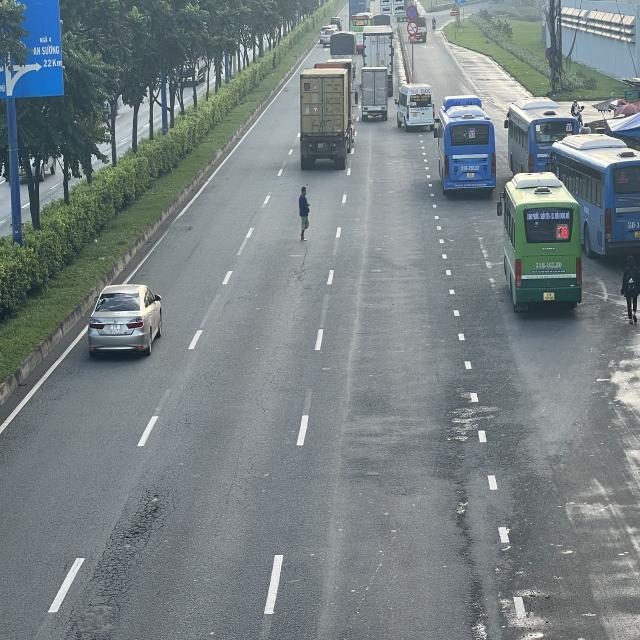car: (89, 286, 164, 360)
coach: (500, 171, 586, 310), (552, 136, 640, 262), (439, 95, 498, 194), (504, 100, 577, 174)
container: (298, 60, 355, 166), (361, 28, 394, 78)
truck: (360, 68, 391, 122)
van: (396, 81, 434, 128)
